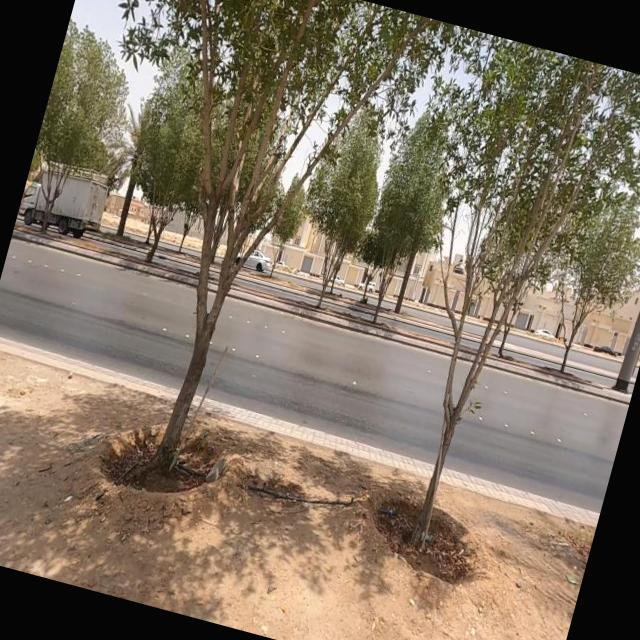debris: (191, 412, 410, 582), (152, 397, 284, 544)
